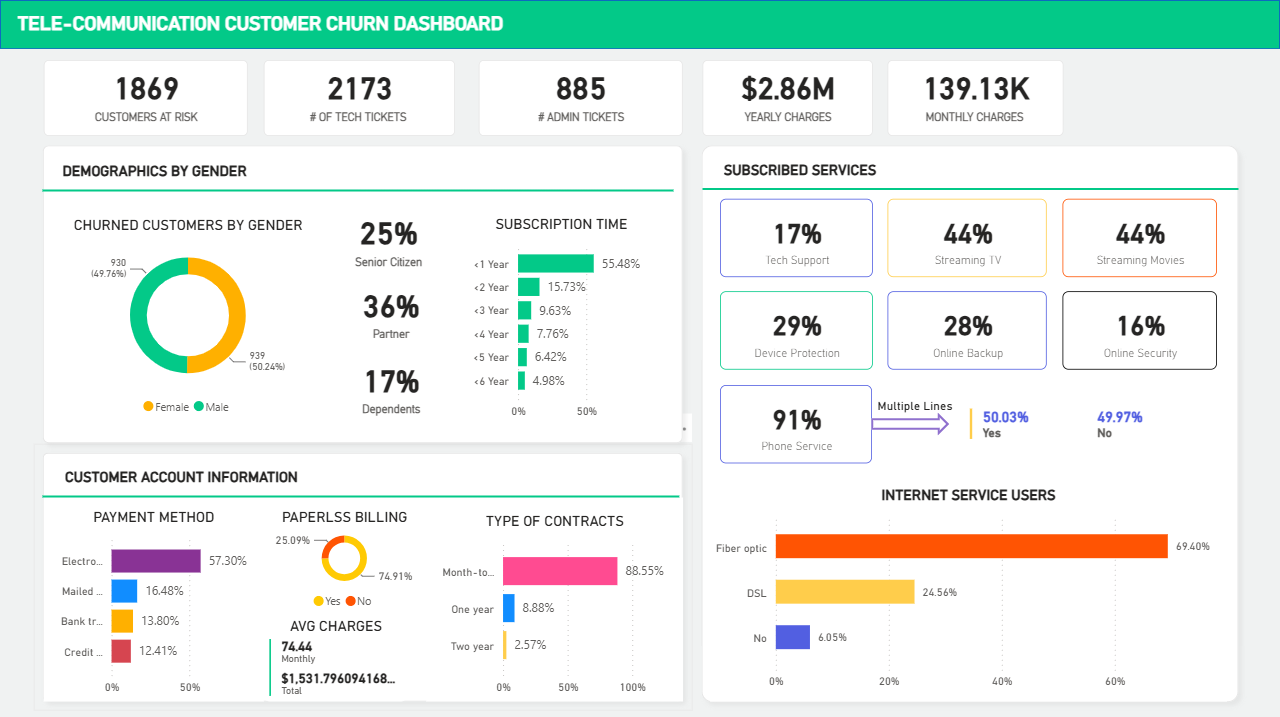

Layout of this report page (visuals, bound fields, positions):
{"tool":"powerbi","page":{"name":"Churn Dashboard","canvas":[1280,720],"ordinal":0},"visuals":[{"type":"shape","box":[0,0,1280,49],"z":0},{"type":"shape","box":[34,136,658,316],"z":0,"group":"g1"},{"type":"card","fields":{"Values":["Churn.% Tech Support"]},"box":[720,199,152.4,78.4],"z":0,"group":"g4"},{"type":"shape","box":[692,136,555,575],"z":1000},{"type":"card","fields":{"Values":["Churn.% Streaming TV"]},"box":[887.4,199,159.5,78.4],"z":1000,"group":"g4"},{"type":"donutChart","title":"CHURNED CUSTOMERS BY GENDER","fields":{"Category":["01 Churn-Dataset.gender"],"Y":["CountNonNull(01 Churn-Dataset.gender)"]},"box":[61.1,204.4,252.2,223.4],"z":1000,"group":"g1"},{"type":"shape","box":[702,123,536,133],"z":1500,"group":"g3"},{"type":"shape","box":[42,430,636.8,133],"z":1500,"group":"g2"},{"type":"textbox","box":[12.2,7.8,610,33.3],"z":2000},{"type":"textbox","box":[703.8,145,522.6,38],"z":2000,"group":"g3"},{"type":"textbox","box":[42.7,146.1,630.9,47.3],"z":2000,"group":"g1"},{"type":"card","fields":{"Values":["Churn.% Streaming Movies"]},"box":[1062.8,199,154.2,78.4],"z":2000,"group":"g4"},{"type":"textbox","box":[44.2,452,636.8,38],"z":2000,"group":"g2"},{"type":"card","fields":{"Values":["Churn.% of Senior Citizen"]},"box":[330.5,204.4,118,77.5],"z":3000,"group":"g1"},{"type":"card","fields":{"Values":["Churn.% Device Protection"]},"box":[720,291.6,152.4,78.4],"z":3000,"group":"g4"},{"type":"shape","box":[34,444,658,267],"z":3000},{"type":"card","fields":{"Values":["CountNonNull(01 Churn-Dataset.customerID)"]},"box":[44,60,204,76],"z":4000},{"type":"card","fields":{"Values":["Churn.% of partner"]},"box":[329.5,278.9,125.5,74.5],"z":4000,"group":"g1"},{"type":"card","fields":{"Values":["Churn.% Online Backup"]},"box":[887.4,291.6,159.5,78.4],"z":4000,"group":"g4"},{"type":"shape","box":[42.7,151.1,630.9,78.5],"z":5000,"group":"g1"},{"type":"card","fields":{"Values":["Churn.% Online Sec"]},"box":[1062.8,291.6,154.2,78.4],"z":5000,"group":"g4"},{"type":"card","fields":{"Values":["Churn.% Phone Service"]},"box":[720,385,152,78],"z":5000},{"type":"card","fields":{"Values":["Sum(01 Churn-Dataset.numTechTickets)"]},"box":[264,60,191,76],"z":6000},{"type":"card","fields":{"Values":["Churn.% of Dependents"]},"box":[329.5,351.4,125.5,79.5],"z":6000,"group":"g1"},{"type":"clusteredBarChart","title":"SUBSCRIPTION TIME","fields":{"Category":["Churn.Tenure(in years)"],"Y":["CountNonNull(Churn.Churn)"]},"box":[466.9,204.4,190.5,220.4],"z":7000,"group":"g1"},{"type":"clusteredBarChart","title":"PAYMENT METHOD","fields":{"Category":["Churn.PaymentMethod"],"Y":["CountNonNull(Churn.PaymentMethod)"]},"box":[44,497,220,204],"z":7000},{"type":"card","fields":{"Values":["Sum(01 Churn-Dataset.TotalCharges)"]},"box":[702,60,170,76],"z":8000},{"type":"card","fields":{"Values":["Sum(01 Churn-Dataset.numAdminTickets)"]},"box":[479,60,204,76],"z":9000},{"type":"group","id":"g1","title":"Group 1","box":[34,136,658,316],"z":10000},{"type":"card","fields":{"Values":["Sum(01 Churn-Dataset.MonthlyCharges)"]},"box":[887,60,176,76],"z":11000},{"type":"donutChart","title":"PAPERLSS BILLING","fields":{"Category":["Churn.PaperlessBilling"],"Y":["CountNonNull(Churn.PaperlessBilling)"]},"box":[248,497,194,126],"z":12000},{"type":"multiRowCard","title":"AVG CHARGES","fields":{"Values":["Avg(Churn.MonthlyCharges)","Avg(Churn.TotalCharges)"]},"box":[264,606,143,95],"z":13000},{"type":"clusteredBarChart","title":"TYPE OF CONTRACTS","fields":{"Category":["Churn.Contract"],"Y":["CountNonNull(Churn.Contract)"]},"box":[426,497,257,204],"z":14000},{"type":"group","id":"g2","title":"Group 2","box":[42,430,639,133],"z":15000},{"type":"group","id":"g3","title":"Group 2","box":[702,123,536,133],"z":16000},{"type":"group","id":"g4","title":"Group 3","box":[720,199,497,171],"z":17000},{"type":"shape","box":[871,412,78,23],"z":18000},{"type":"textbox","box":[872,391,300,30],"z":19000},{"type":"multiRowCard","fields":{"Values":["Churn.% Yes-Multiple Lines","Churn.% No-Multiple Lines"]},"box":[965,404,252,53],"z":20000},{"type":"barChart","title":"INTERNET SERVICE USERS","fields":{"Category":["Churn.InternetService"],"Y":["CountNonNull(Churn.InternetService)"]},"box":[710,471,517,230],"z":21000}]}

Visuals, with their boxes in screenshot pixels (x1, y1, x2, y2), scaled from the page's 1280x720 canvas onto the 1280x717 screenshot:
shape: 0:0:1279:49
shape: 34:135:692:450
card - Churn.% Tech Support: 720:198:872:276
shape: 692:135:1247:708
card - Churn.% Streaming TV: 887:198:1047:276
"CHURNED CUSTOMERS BY GENDER" donutChart: 61:204:313:426
shape: 702:122:1238:255
shape: 42:428:679:561
textbox: 12:8:622:41
textbox: 704:144:1226:182
textbox: 43:145:674:193
card - Churn.% Streaming Movies: 1063:198:1217:276
textbox: 44:450:681:488
card - Churn.% of Senior Citizen: 330:204:448:281
card - Churn.% Device Protection: 720:290:872:368
shape: 34:442:692:708
card - CountNonNull(01 Churn-Dataset.customerID): 44:60:248:135
card - Churn.% of partner: 330:278:455:352
card - Churn.% Online Backup: 887:290:1047:368
shape: 43:150:674:229
card - Churn.% Online Sec: 1063:290:1217:368
card - Churn.% Phone Service: 720:383:872:461
card - Sum(01 Churn-Dataset.numTechTickets): 264:60:455:135
card - Churn.% of Dependents: 330:350:455:429
"SUBSCRIPTION TIME" clusteredBarChart: 467:204:657:423
"PAYMENT METHOD" clusteredBarChart: 44:495:264:698
card - Sum(01 Churn-Dataset.TotalCharges): 702:60:872:135
card - Sum(01 Churn-Dataset.numAdminTickets): 479:60:683:135
"Group 1" group: 34:135:692:450
card - Sum(01 Churn-Dataset.MonthlyCharges): 887:60:1063:135
"PAPERLSS BILLING" donutChart: 248:495:442:620
"AVG CHARGES" multiRowCard: 264:603:407:698
"TYPE OF CONTRACTS" clusteredBarChart: 426:495:683:698
"Group 2" group: 42:428:681:561
"Group 2" group: 702:122:1238:255
"Group 3" group: 720:198:1217:368
shape: 871:410:949:433
textbox: 872:389:1172:419
multiRowCard - Churn.% Yes-Multiple Lines x Churn.% No-Multiple Lines: 965:402:1217:455
"INTERNET SERVICE USERS" barChart: 710:469:1227:698
